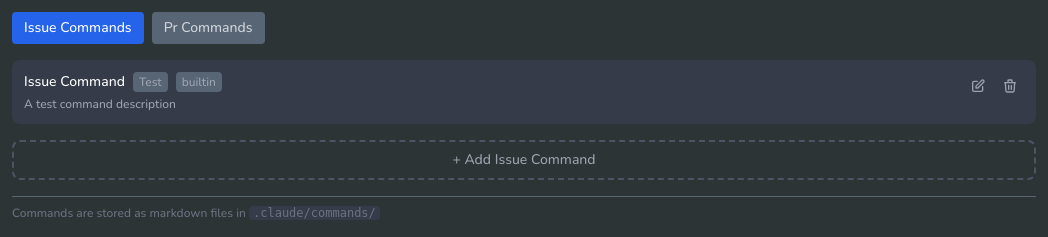
Test: CommandEditor › Category Tab Switching › switches to PR tab when clicked
The image size is (1048, 237).
expect the text "Issue Command" is shown: met, box [24,72,125,92]
# Switch to PR tab
Click the button "pr Commands".
click(208, 28)  # box [152,12,265,44]
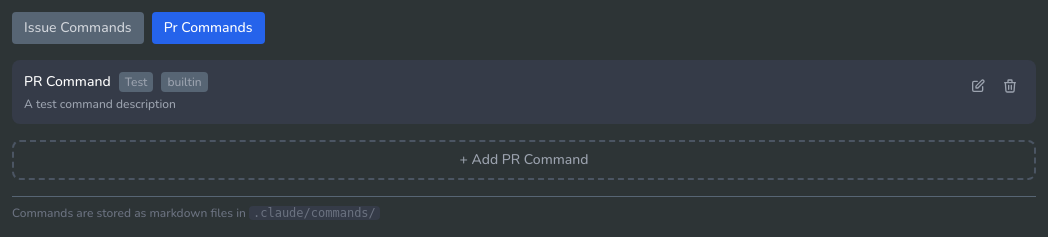
expect the text "PR Command" is shown: met, box [24,72,111,92]
